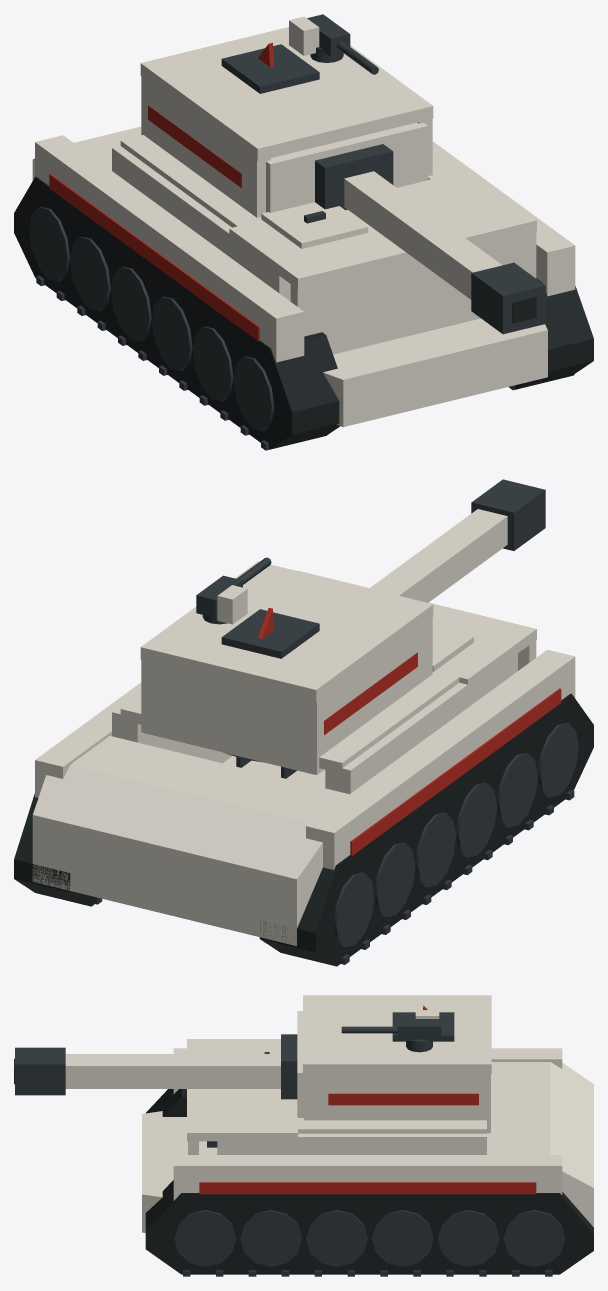
3 views of the same model, one above another, from view 1: azimuth 30°, elevation 25°; view 2: azimuth 150°, elevation 25°; view 3: azimuth 270°, elevation 25° (orthographic). The views are drawn at different scales.
Visible parts, largest first — view 1: tank-fleet-armor, turret-fleet-armor, tank-fleet-rubber, tank-fleet-machine, breakaway-0-painted, cannon-recoil-painted, tank-fleet-red, breakaway-1-painted, barrel-fleet-machine, turret-fleet-machine, machine-gun-pitch-painted, turret-fleet-red; view 2: tank-fleet-armor, turret-fleet-armor, tank-fleet-rubber, tank-fleet-machine, breakaway-0-painted, cannon-recoil-painted, tank-fleet-red, breakaway-1-painted, turret-fleet-machine, machine-gun-pitch-painted, turret-fleet-red; view 3: tank-fleet-armor, turret-fleet-armor, tank-fleet-rubber, tank-fleet-machine, breakaway-1-painted, cannon-recoil-painted, tank-fleet-red, turret-fleet-red, machine-gun-pitch-painted, breakaway-0-painted, barrel-fleet-machine, turret-fleet-machine (+1 smaller).
Part boxes in pixels (x1=…): tank-fleet-armor: x1=32, y1=126, x2=547, y2=427; turret-fleet-armor: x1=140, y1=27, x2=433, y2=217; tank-fleet-rubber: x1=14, y1=176, x2=593, y2=449; tank-fleet-machine: x1=29, y1=206, x2=574, y2=450; breakaway-0-painted: x1=35, y1=135, x2=304, y2=362; cannon-recoil-painted: x1=344, y1=171, x2=545, y2=334; tank-fleet-red: x1=49, y1=174, x2=259, y2=341; breakaway-1-painted: x1=432, y1=141, x2=575, y2=296; barrel-fleet-machine: x1=315, y1=144, x2=393, y2=210; turret-fleet-machine: x1=221, y1=44, x2=319, y2=93; machine-gun-pitch-painted: x1=289, y1=14, x2=350, y2=56; turret-fleet-red: x1=148, y1=42, x2=274, y2=188; tank-fleet-armor: x1=32, y1=570, x2=536, y2=946; turret-fleet-armor: x1=140, y1=561, x2=433, y2=774; tank-fleet-rubber: x1=14, y1=693, x2=593, y2=966; tank-fleet-machine: x1=95, y1=723, x2=578, y2=964; breakaway-0-painted: x1=306, y1=649, x2=575, y2=869; cannon-recoil-painted: x1=369, y1=479, x2=545, y2=602; tank-fleet-red: x1=350, y1=688, x2=561, y2=855; breakaway-1-painted: x1=35, y1=682, x2=141, y2=797; turret-fleet-machine: x1=221, y1=609, x2=319, y2=658; machine-gun-pitch-painted: x1=196, y1=575, x2=247, y2=624; turret-fleet-red: x1=258, y1=608, x2=417, y2=734; tank-fleet-armor: x1=142, y1=1039, x2=593, y2=1232; turret-fleet-armor: x1=297, y1=995, x2=491, y2=1133; tank-fleet-rubber: x1=145, y1=1089, x2=593, y2=1274; tank-fleet-machine: x1=174, y1=1052, x2=565, y2=1276; breakaway-1-painted: x1=173, y1=1155, x2=562, y2=1200; cannon-recoil-painted: x1=14, y1=1047, x2=280, y2=1095; tank-fleet-red: x1=199, y1=1182, x2=536, y2=1194; turret-fleet-red: x1=328, y1=1005, x2=478, y2=1105; machine-gun-pitch-painted: x1=397, y1=1010, x2=441, y2=1040; breakaway-0-painted: x1=173, y1=1048, x2=562, y2=1094; barrel-fleet-machine: x1=281, y1=1034, x2=297, y2=1099; turret-fleet-machine: x1=392, y1=1012, x2=454, y2=1041.
Bounding box in the file's own units: 21.11 × 17.61 × 42.63.
